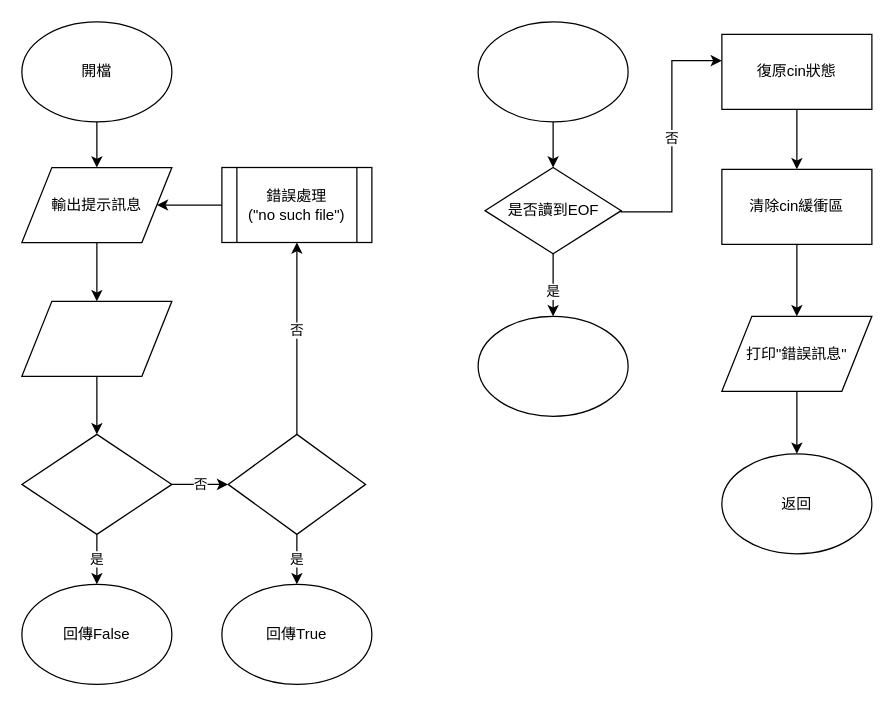
This 894x706 diagram has some shape labels left out. Each missing label, with the centre of its shape:
是否成功開啟 bin檔: (296,483)
是否輸入"0": (96,483)
結束程式: (552,365)
輸入檔案名稱: (96,338)
錯誤處理 ( 錯誤訊息): (552,71)
